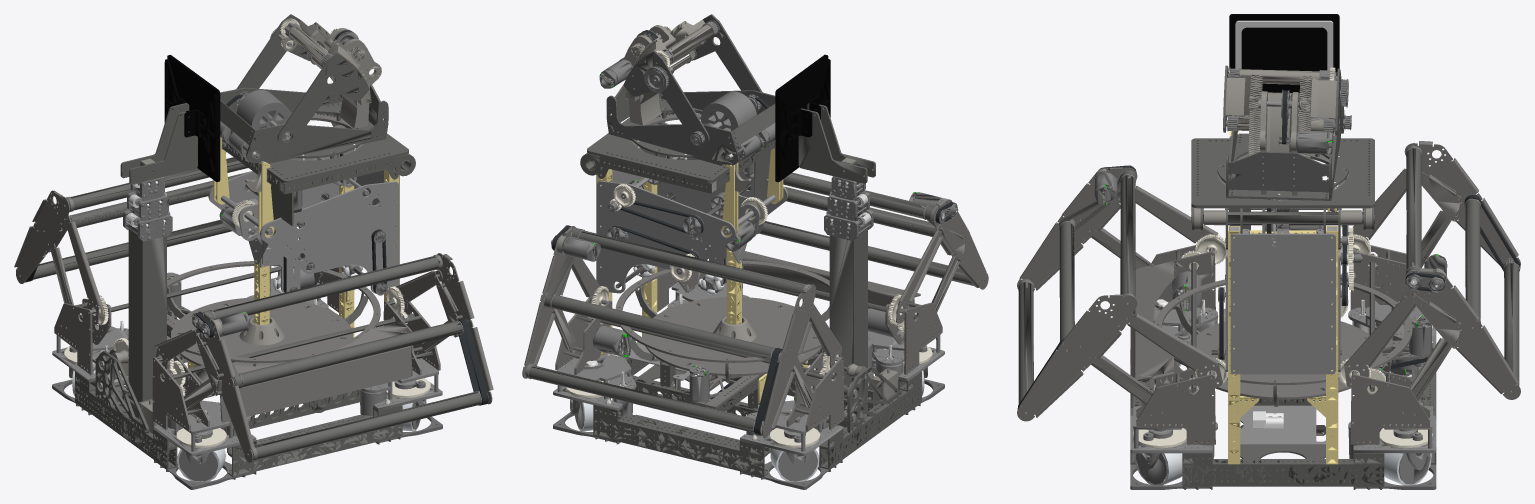
File: hero-mantis-6800.glb
The picture shows the model from 3 angles, left to right: view 1: azimuth 30°, elevation 25°; view 2: azimuth 150°, elevation 25°; view 3: azimuth 270°, elevation 25°; orthographic projection. The views are drawn at different scales.
Parts seen in each view (by area): view 1: intake-right, frame, magazine, intake-left, climber, turret, spindexer, climb-pad, hood, magazine-mount, shooter, flywheel (+2 smaller); view 2: frame, intake-left, magazine, intake-right, spindexer, turret, climber, climb-pad, hood, magazine-mount, shooter, flywheel (+2 smaller); view 3: intake-right, intake-left, magazine, frame, turret, spindexer, climb-pad, hood, shooter, magazine-mount.
Boxes of the visible parts, box(x1,y1,x2,y2) form: intake-right: box(152, 253, 493, 462); frame: box(52, 262, 442, 489); magazine: box(208, 113, 410, 337); intake-left: box(14, 157, 338, 374); climber: box(95, 210, 172, 433); turret: box(220, 28, 388, 163); spindexer: box(167, 261, 380, 373); climb-pad: box(120, 55, 220, 184); hood: box(236, 14, 371, 146); magazine-mount: box(213, 113, 415, 237); shooter: box(256, 114, 408, 183); flywheel: box(236, 90, 290, 129); frame: box(553, 278, 944, 489); intake-left: box(522, 225, 844, 437); magazine: box(585, 112, 788, 354); intake-right: box(657, 172, 988, 374); spindexer: box(615, 260, 829, 411); turret: box(599, 25, 775, 165); climber: box(794, 209, 901, 432); climb-pad: box(775, 54, 875, 183); hood: box(623, 14, 762, 146); magazine-mount: box(580, 112, 783, 236); shooter: box(587, 97, 750, 182); flywheel: box(701, 91, 756, 131); intake-right: box(1017, 165, 1227, 444); intake-left: box(1338, 141, 1520, 444); magazine: box(1191, 174, 1374, 464); frame: box(1130, 247, 1436, 489); turret: box(1217, 90, 1351, 209); spindexer: box(1154, 279, 1433, 425); climb-pad: box(1229, 14, 1339, 93); hood: box(1223, 65, 1351, 158); shooter: box(1191, 138, 1374, 208); magazine-mount: box(1191, 131, 1374, 230).
Bounding box in the file's own units: 0.6655 × 0.9055 × 1.05.
